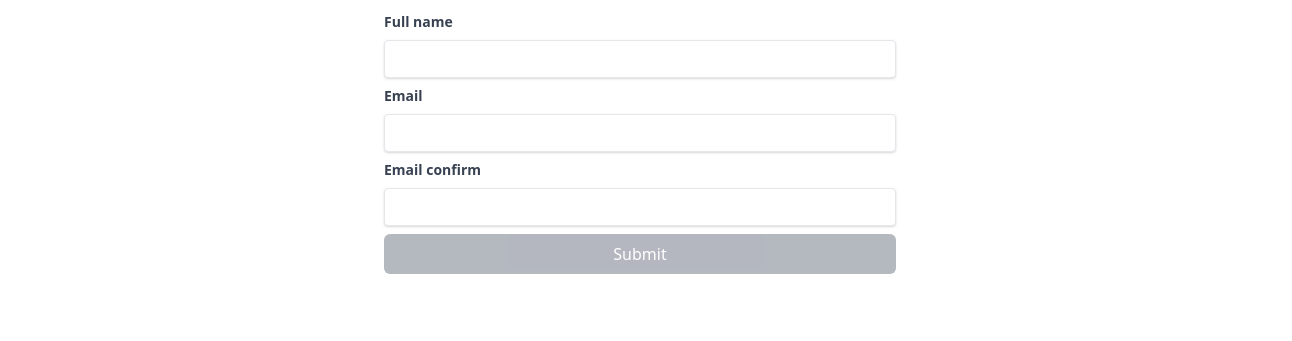
Test: test fetch failure
Step 1. Type "abcde" into the field labelled "Full name" → (640, 59), box [384,40,896,78]
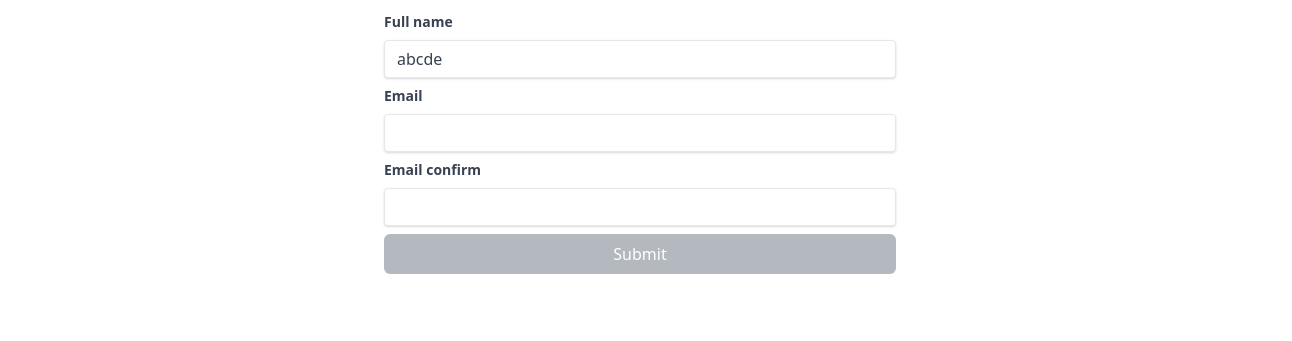
Step 2. Type "validemail@email.com" into the field labelled "Email" → (640, 133), box [384,114,896,152]
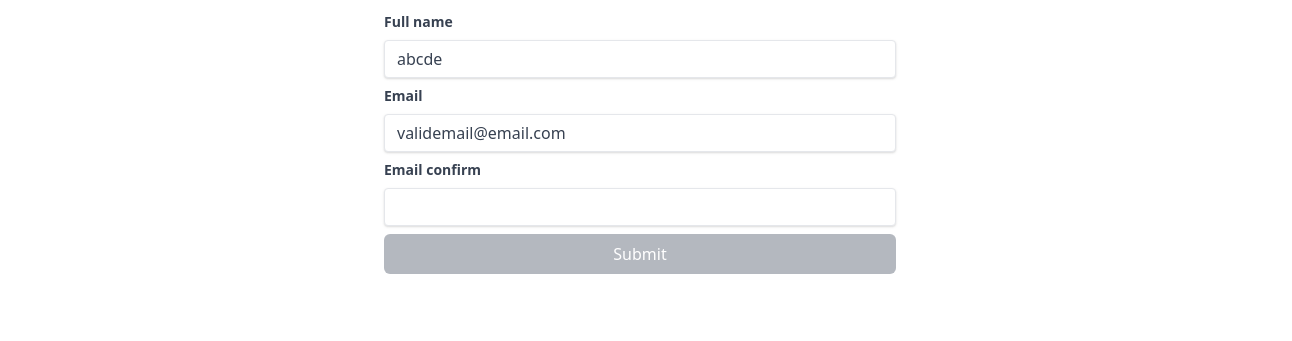
Step 3. Type "validemail@email.com" into the field labelled "Email confirm" → (640, 207), box [384,188,896,226]
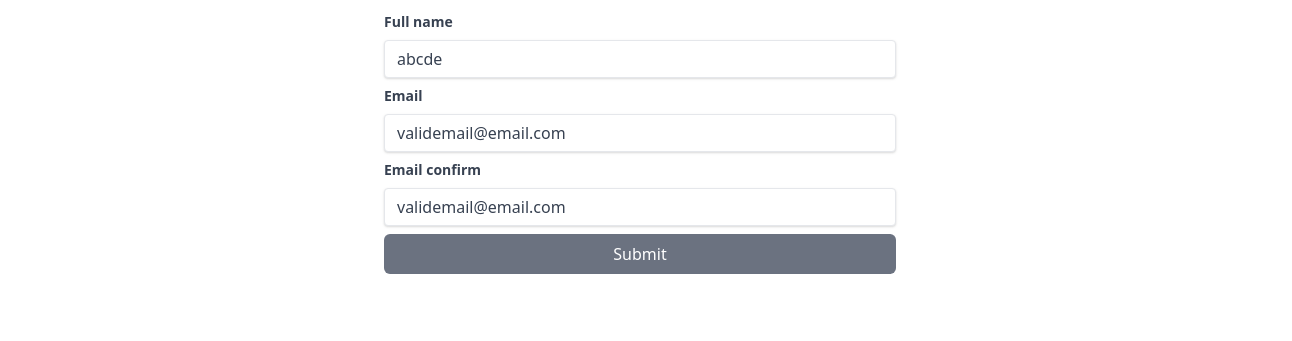
Step 4. Click the button "Submit" → (640, 254), box [384,234,896,274]
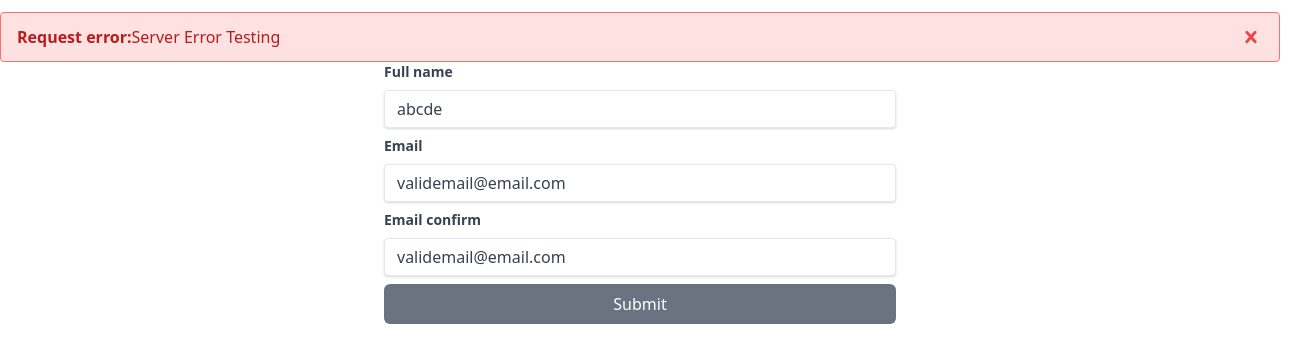
Check: the message "Request error:Server Error Testing" is shown, box [0,12,1280,62]
Check: the text "Server Error Testing" is shown, box [132,26,280,48]
